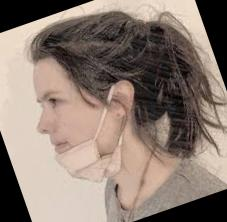mask_weared_incorrect: (20, 66, 116, 200)
